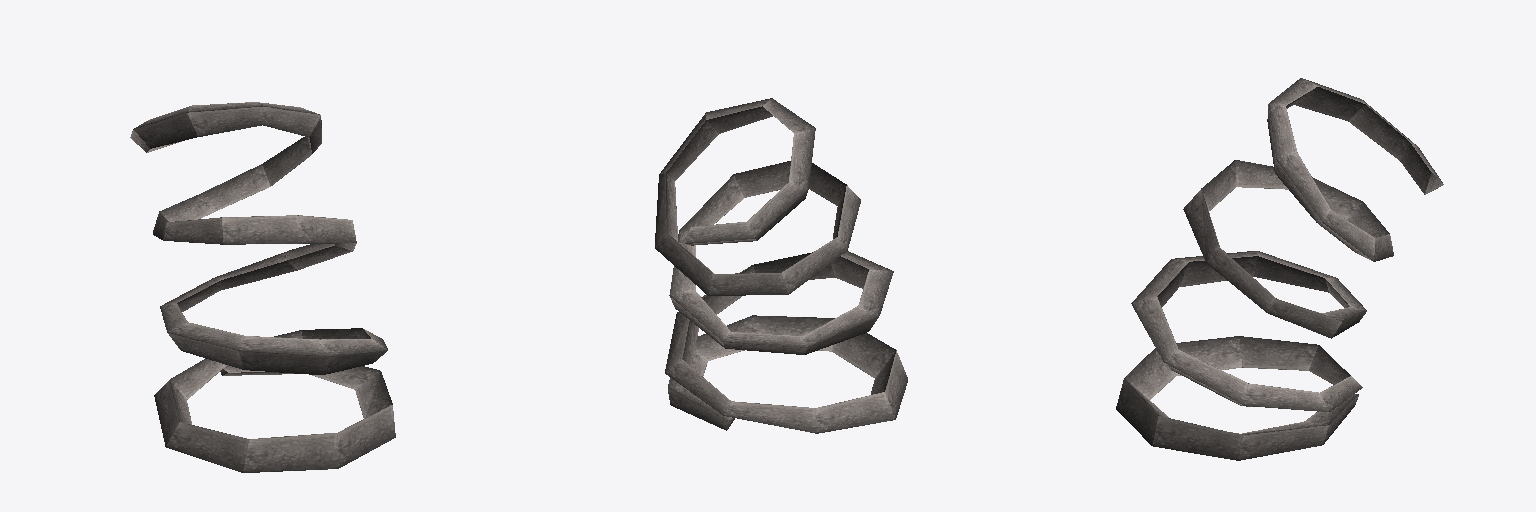
The picture shows the model from 3 angles: view 1: azimuth 30°, elevation 25°; view 2: azimuth 150°, elevation 25°; view 3: azimuth 270°, elevation 25°; orthographic projection.
Visible parts, largest first — view 1: spring; view 2: spring; view 3: spring.
Part boxes in pixels (left/top/right/bottom): spring: left=130, top=102, right=395, bottom=472; spring: left=655, top=98, right=907, bottom=433; spring: left=1116, top=78, right=1443, bottom=460.
Bounding box in the file's own units: 1.51 × 2.02 × 1.96.
1 materials, 1 textured.